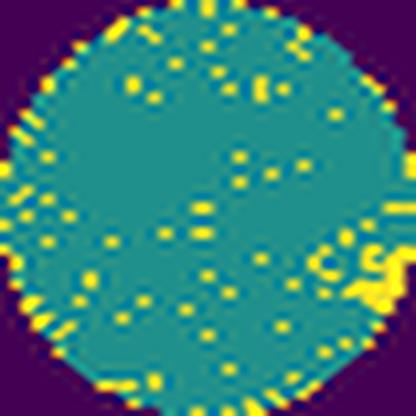Edge-Loc: (337, 242, 415, 314)
